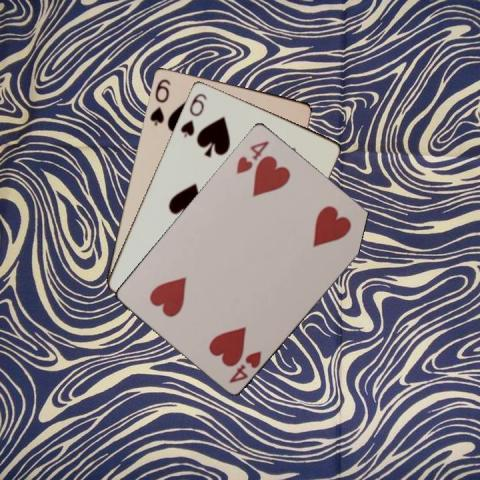4h: (232, 138, 270, 176), (226, 347, 264, 385)
6s: (177, 90, 209, 139), (147, 75, 172, 127)
